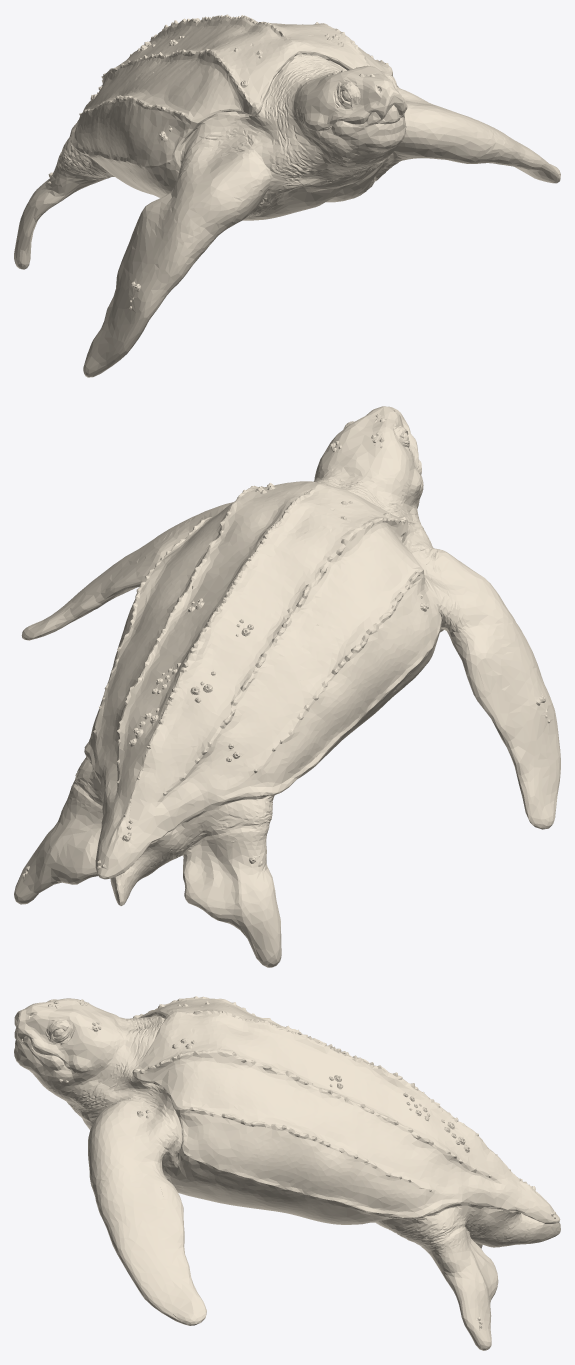
File: animal_turtle_v1.glb
The picture shows the model from 3 angles, top to bottom: view 1: azimuth 30°, elevation 25°; view 2: azimuth 150°, elevation 25°; view 3: azimuth 270°, elevation 25°; orthographic projection. The views are drawn at different scales.
Visible parts, largest first — view 1: leather-back-turtle-swim; view 2: leather-back-turtle-swim; view 3: leather-back-turtle-swim.
Part boxes in pixels (box(x1,y1,x2,y2)): leather-back-turtle-swim: box(14, 14, 560, 377); leather-back-turtle-swim: box(14, 406, 560, 967); leather-back-turtle-swim: box(14, 996, 560, 1350).
Size of the model in its own units: 83.71 by 54.13 by 87.31.
